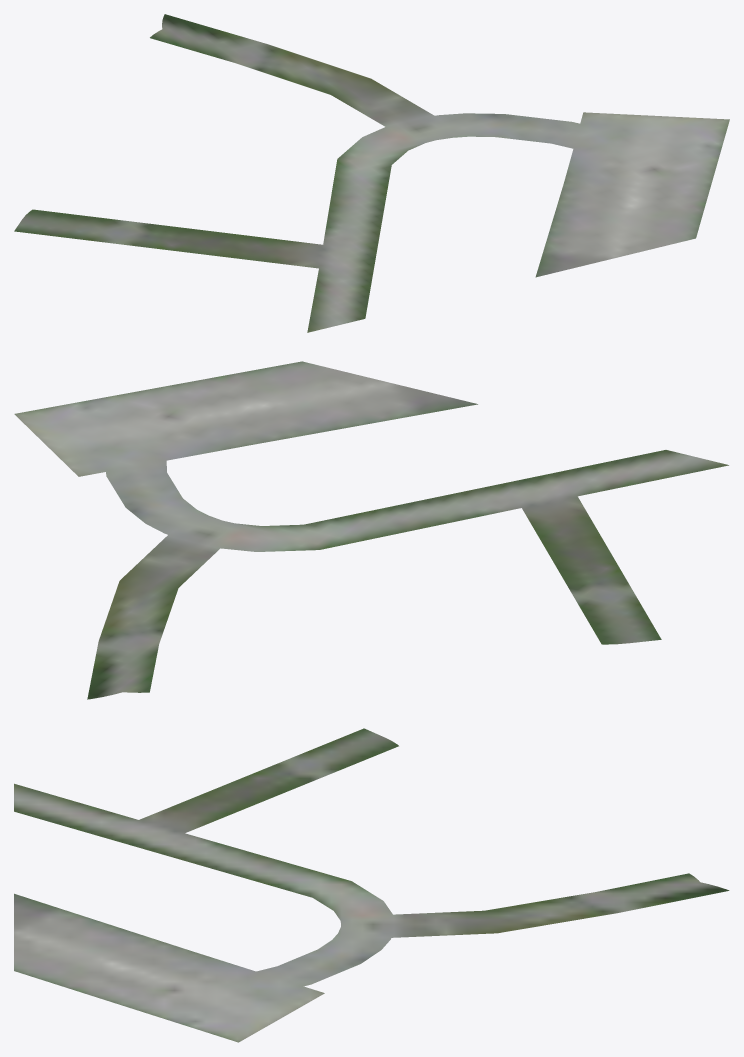
Rendered from LSME_1_2.glb.
3 renders of one model, top to bottom at view 1: azimuth 30°, elevation 25°; view 2: azimuth 150°, elevation 25°; view 3: azimuth 270°, elevation 25°, orthographic. The views are drawn at different scales.
Parts seen in each view (by area): view 1: pavement_LSME_pavement_5332_2434, pavement_LSME_pavement_5333_2434; view 2: pavement_LSME_pavement_5332_2434, pavement_LSME_pavement_5333_2434; view 3: pavement_LSME_pavement_5332_2434, pavement_LSME_pavement_5333_2434.
Part boxes in pixels (x1,y1,x2,y2): pavement_LSME_pavement_5332_2434: (14,14,653,332); pavement_LSME_pavement_5333_2434: (469,112,729,248); pavement_LSME_pavement_5332_2434: (87,372,728,699); pavement_LSME_pavement_5333_2434: (14,361,347,521); pavement_LSME_pavement_5332_2434: (14,728,729,951); pavement_LSME_pavement_5333_2434: (14,951,378,1042).
Bounding box in the file's own units: 204 × 0.2668 × 197.
1 material, 1 textured.
